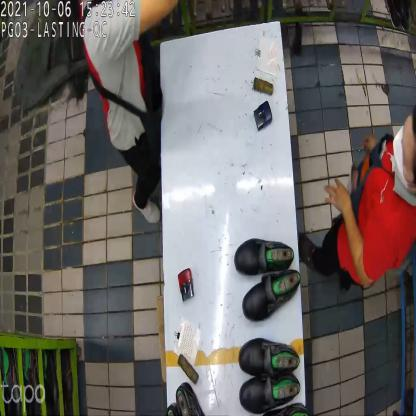shoes: (235, 241, 299, 313), (238, 339, 301, 411)
stamp: (253, 99, 273, 133), (178, 271, 197, 303)
